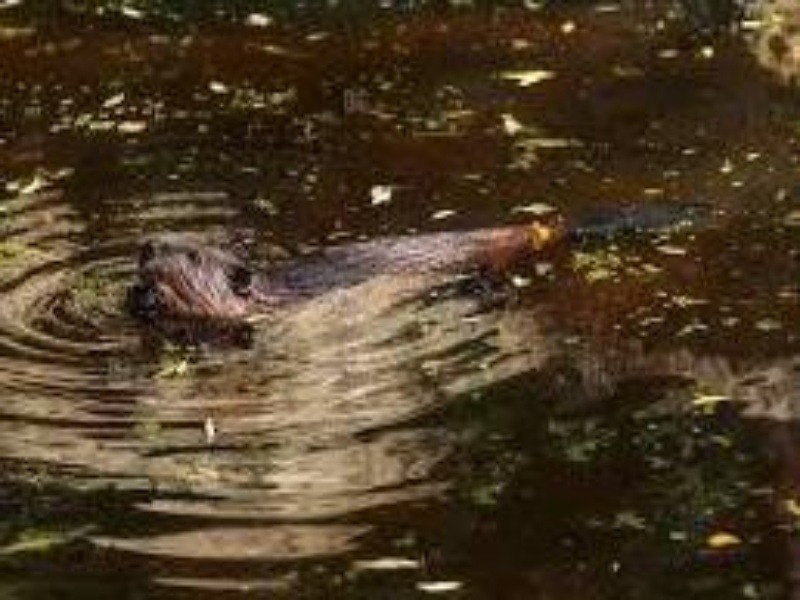minkish: (134, 191, 702, 323)
